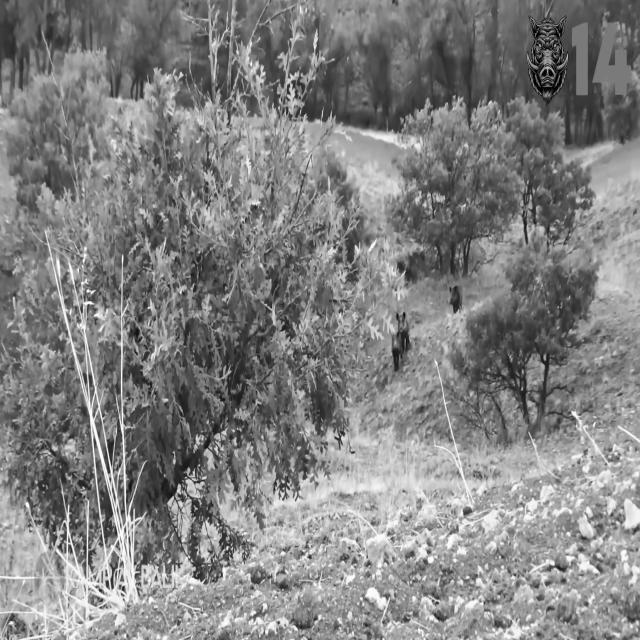boar: (392, 311, 409, 367), (449, 284, 462, 305)
